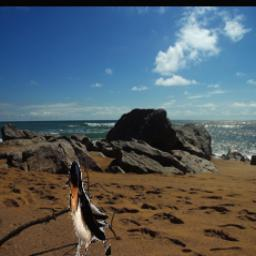Swallow: (64, 161, 110, 256)
